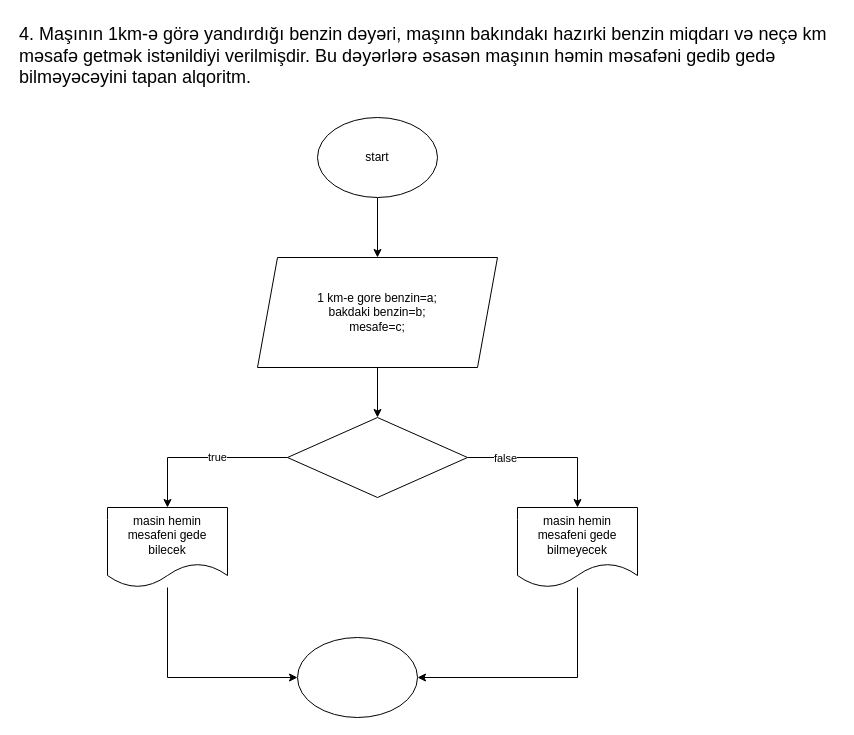
Image size: 854x735. Some labels were removed from this diagram. Each missing label, with the centre of its shape:
"c/a>b" goes at point (377, 457).
"end" goes at point (357, 677).
